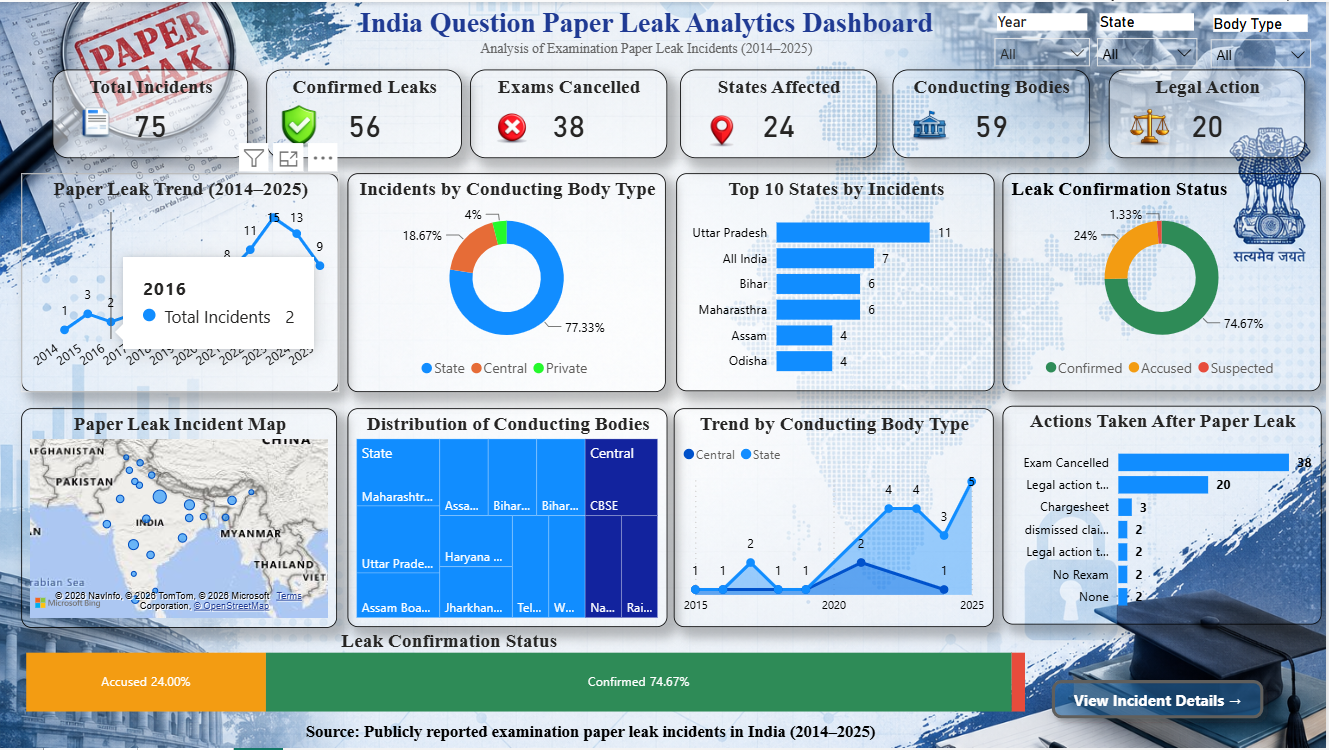

This screenshot's page, from the dashboard's own definition file:
{"tool":"powerbi","page":{"name":"Page 1","canvas":[1280,720],"ordinal":0},"visuals":[{"type":"card","title":"Total Incidents","fields":{"Values":["Measure_Table.Total Incidents"]},"box":[50.2,64.9,188.7,85.8],"z":0},{"type":"card","title":"Confirmed Leaks","fields":{"Values":["Measure_Table.Confirmed Leaks"]},"box":[256.8,65.2,188.7,85.8],"z":1000},{"type":"card","title":"Exams Cancelled","fields":{"Values":["Measure_Table.Exams Cancelled"]},"box":[454,65.2,190,85.8],"z":2000},{"type":"card","title":"States Affected","fields":{"Values":["Measure_Table.States Affected"]},"box":[656.2,65.2,190,85.8],"z":3000},{"type":"card","title":"Conducting Bodies","fields":{"Values":["Measure_Table.Conducting Bodies"]},"box":[862,65.2,190,85.8],"z":4000},{"type":"card","title":"Legal Action","fields":{"Values":["Measure_Table.Legal Action Cases"]},"box":[1070.3,65.2,189.9,85.8],"z":5000},{"type":"image","box":[245.8,86,84.5,74.7],"z":6000},{"type":"image","box":[50.2,77.2,82.1,83.3],"z":7000},{"type":"image","box":[454,77.4,80.9,90.7],"z":8000},{"type":"image","box":[656.2,77.4,80.9,90.7],"z":9000},{"type":"image","box":[848.5,77.4,96.8,90.7],"z":10000},{"type":"image","box":[1054.3,65.2,110.3,115.2],"z":11000},{"type":"lineChart","title":"Paper Leak Trend (2014–2025)","fields":{"Category":["Paper leaks India.Date of Exam/Incident.Variation.Date Hierarchy.Year"],"Y":["Measure_Table.Total Incidents"]},"box":[20.5,165.3,306.4,211.1],"z":12000},{"type":"donutChart","title":"Incidents by Conducting Body Type","fields":{"Category":["Paper leaks India.Conducting Body Type"],"Y":["CountNonNull(Paper leaks India.Exam Name)"]},"box":[334.9,165.1,307.5,211],"z":13000},{"type":"clusteredBarChart","title":"Top 10 States by Incidents","fields":{"Category":["Paper leaks India.Area(s) of Incident"],"Y":["Measure_Table.Total Incidents"]},"box":[652.3,165.1,307.5,210.7],"z":14000},{"type":"donutChart","title":"Leak Confirmation Status","fields":{"Category":["Paper leaks India.Leak Confirmation Status"],"Y":["Measure_Table.Total Incidents"]},"box":[967.1,165.1,307.5,210.7],"z":15000},{"type":"clusteredBarChart","title":"Actions Taken After Paper Leak","fields":{"Category":["Paper leaks India.Action taken"],"Y":["Measure_Table.Total Incidents"]},"box":[967.6,389.7,307.6,211.1],"z":16000},{"type":"map","title":"Paper Leak Incident Map","fields":{"Category":["Paper leaks India.Area(s) of Incident"],"Size":["Measure_Table.Total Incidents"]},"box":[20.5,392,305.1,211.7],"z":17000},{"type":"areaChart","title":"Trend by Conducting Body Type","fields":{"Category":["Paper leaks India.Year"],"Series":["Paper leaks India.Conducting Body Type"],"Y":["Measure_Table.Total Incidents"]},"box":[650.4,392.5,308.7,211.3],"z":18000},{"type":"treemap","title":"Distribution of Conducting Bodies","fields":{"Group":["Paper leaks India.Conducting Body Type"],"Details":["Paper leaks India.Conducting Body"],"Values":["Measure_Table.Total Incidents"]},"box":[334.8,392.5,308.7,211.3],"z":19000},{"type":"hundredPercentStackedBarChart","title":"Leak Confirmation Status","fields":{"Y":["Measure_Table.Total Incidents"],"Series":["Paper leaks India.Leak Confirmation Status"]},"box":[20.8,606.4,974,101.7],"z":20000},{"type":"textbox","box":[318.5,600.3,230.3,45.3],"z":21000},{"type":"textbox","box":[243.8,690.5,652.6,29.2],"z":22000},{"type":"textbox","box":[238,0,772.3,65.7],"z":23000},{"type":"slicer","fields":{"Values":["Paper leaks India.Date of Exam/Incident.Variation.Date Hierarchy.Year"]},"box":[949.5,6.1,112.7,60],"z":24000},{"type":"slicer","fields":{"Values":["Paper leaks India.Area(s) of Incident"]},"box":[1048.4,6,117,59.1],"z":25000},{"type":"slicer","fields":{"Values":["Paper leaks India.Conducting Body Type"]},"box":[1158.2,7.2,117,59.1],"z":26000},{"type":"actionButton","box":[1005.6,645.6,222.1,54.9],"z":26001}]}

Visuals, with their boxes in screenshot pixels (x1, y1, x2, y2), scaled from the page's 1280x720 canvas onto the 1329x750 screenshot:
"Total Incidents" card: bbox=[52, 68, 248, 157]
"Confirmed Leaks" card: bbox=[267, 68, 463, 157]
"Exams Cancelled" card: bbox=[471, 68, 669, 157]
"States Affected" card: bbox=[681, 68, 879, 157]
"Conducting Bodies" card: bbox=[895, 68, 1092, 157]
"Legal Action" card: bbox=[1111, 68, 1308, 157]
image: bbox=[255, 90, 343, 167]
image: bbox=[52, 80, 137, 167]
image: bbox=[471, 81, 555, 175]
image: bbox=[681, 81, 765, 175]
image: bbox=[881, 81, 981, 175]
image: bbox=[1095, 68, 1209, 188]
"Paper Leak Trend (2014–2025)" lineChart: bbox=[21, 172, 339, 392]
"Incidents by Conducting Body Type" donutChart: bbox=[348, 172, 667, 392]
"Top 10 States by Incidents" clusteredBarChart: bbox=[677, 172, 997, 391]
"Leak Confirmation Status" donutChart: bbox=[1004, 172, 1323, 391]
"Actions Taken After Paper Leak" clusteredBarChart: bbox=[1005, 406, 1324, 626]
"Paper Leak Incident Map" map: bbox=[21, 408, 338, 629]
"Trend by Conducting Body Type" areaChart: bbox=[675, 409, 996, 629]
"Distribution of Conducting Bodies" treemap: bbox=[348, 409, 668, 629]
"Leak Confirmation Status" hundredPercentStackedBarChart: bbox=[22, 632, 1033, 738]
textbox: bbox=[331, 625, 570, 672]
textbox: bbox=[253, 719, 931, 749]
textbox: bbox=[247, 0, 1049, 68]
slicer - Paper leaks India.Date of Exam/Incident.Variation.Date Hierarchy.Year: bbox=[986, 6, 1103, 69]
slicer - Paper leaks India.Area(s) of Incident: bbox=[1089, 6, 1210, 68]
slicer - Paper leaks India.Conducting Body Type: bbox=[1203, 8, 1324, 69]
actionButton: bbox=[1044, 673, 1275, 730]
